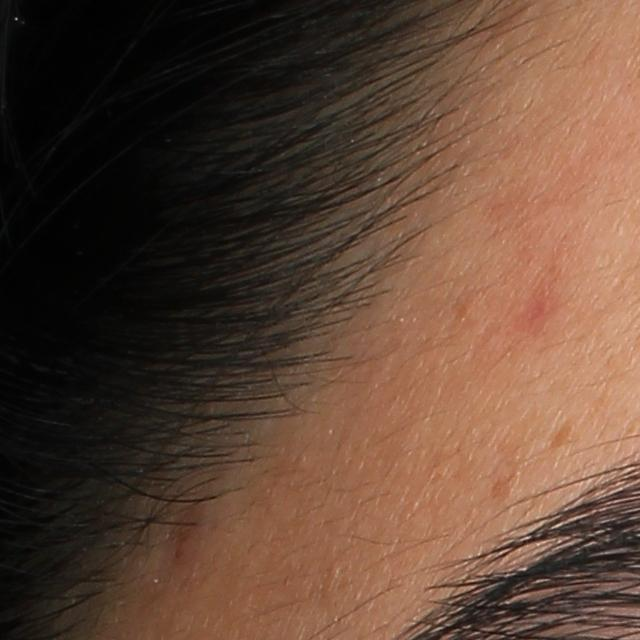melasma: (547, 417, 575, 457)
